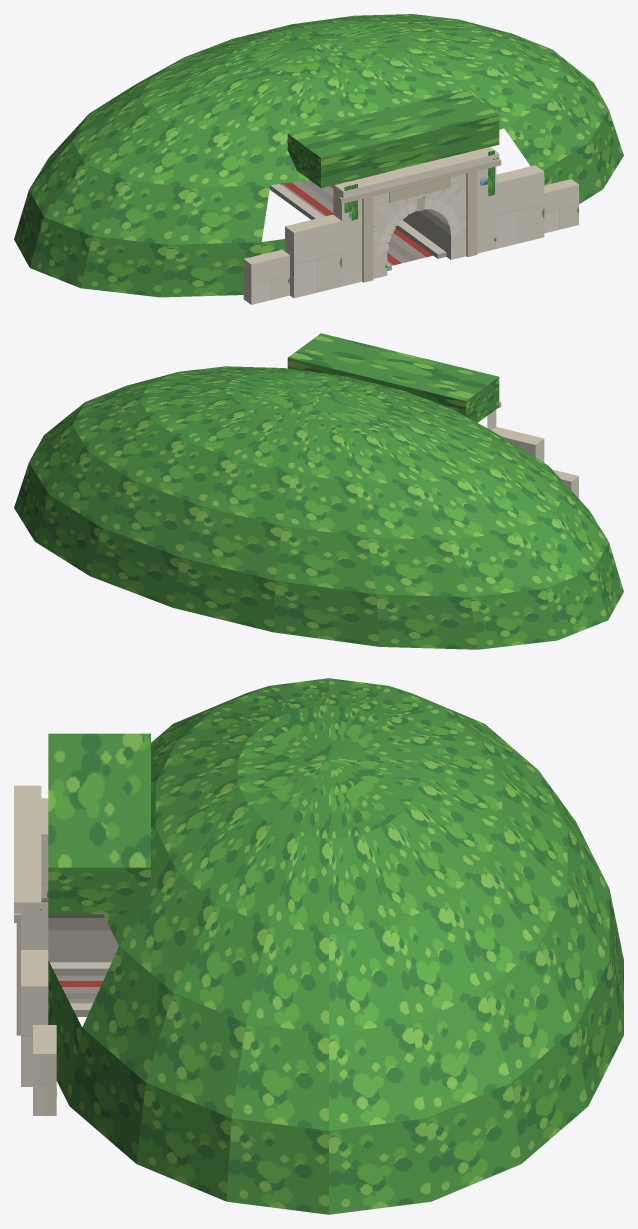
The model's file is tunnel.glb.
3 renders of one model, top to bottom at view 1: azimuth 30°, elevation 25°; view 2: azimuth 150°, elevation 25°; view 3: azimuth 270°, elevation 25°, orthographic. The views are drawn at different scales.
Visible parts, largest first — view 1: tunnel.001; view 2: tunnel.001; view 3: tunnel.001.
Part boxes in pixels (x1,y1,x2,y2): tunnel.001: (14, 14, 623, 304); tunnel.001: (14, 333, 623, 649); tunnel.001: (14, 678, 623, 1214).
Size of the model in its own units: 60 by 15.3 by 35.64.
Materials: 1 (1 with a texture image).
